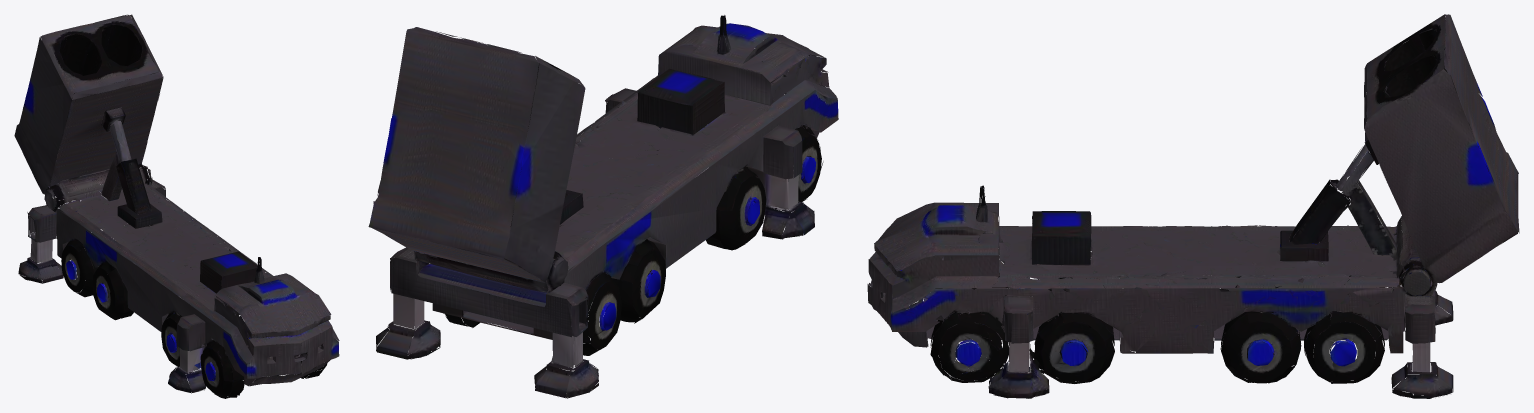
The model's file is 4_rocket_launcher_reduced.glb.
The picture shows the model from 3 angles, left to right: view 1: azimuth 30°, elevation 25°; view 2: azimuth 150°, elevation 25°; view 3: azimuth 270°, elevation 25°; orthographic projection. The views are drawn at different scales.
Visible parts, largest first — view 1: Mesh_0; view 2: Mesh_0; view 3: Mesh_0.
Boxes of the visible parts, x1,y1,x2,y2 form: Mesh_0: (14, 14, 339, 398); Mesh_0: (368, 15, 838, 398); Mesh_0: (867, 14, 1519, 398).
Bounding box in the file's own units: 0.3587 × 0.533 × 1.01.
1 material, 1 textured.
